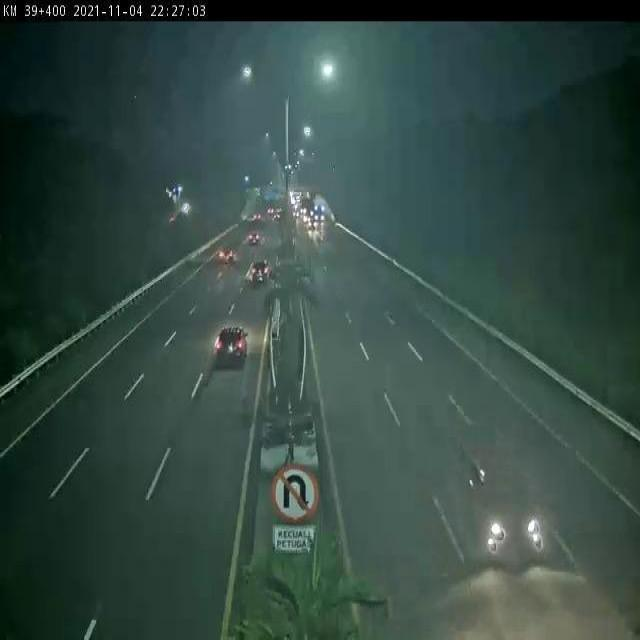car: (461, 443, 542, 563), (215, 328, 249, 369), (249, 261, 269, 284)
